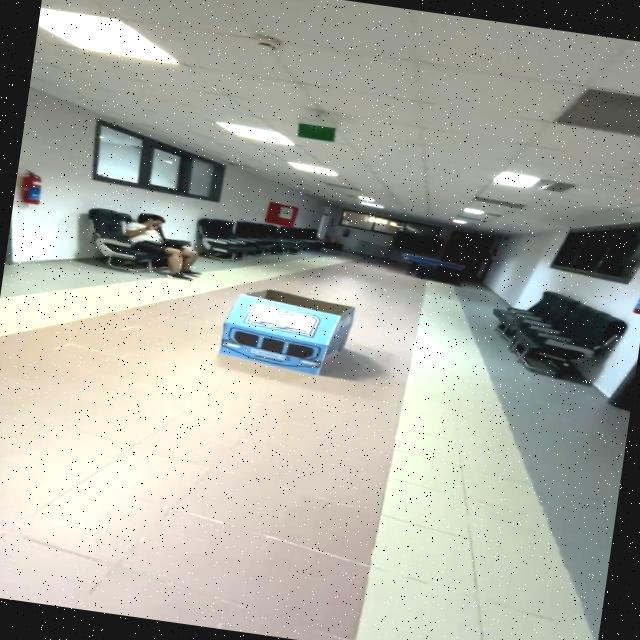blue_car: (200, 268, 376, 390)
